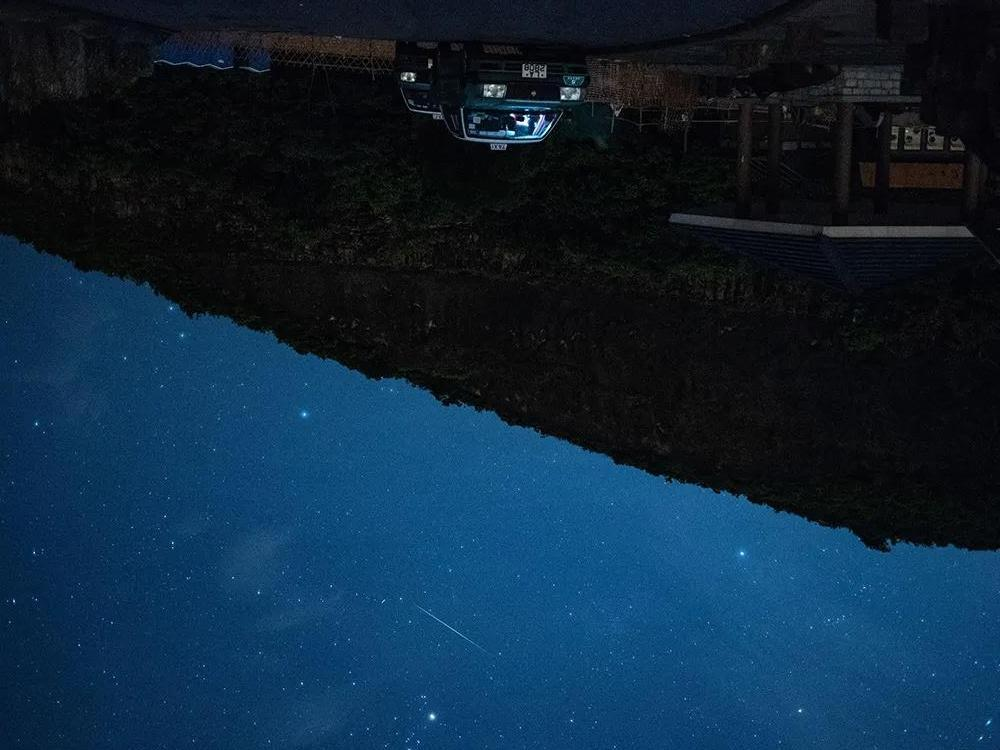meteorite: (404, 595, 509, 666)
